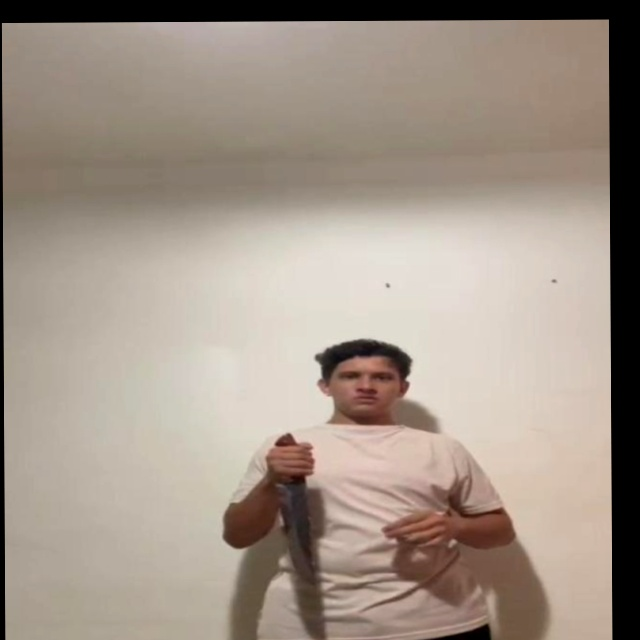Sharp-Object: (276, 480, 317, 580)
